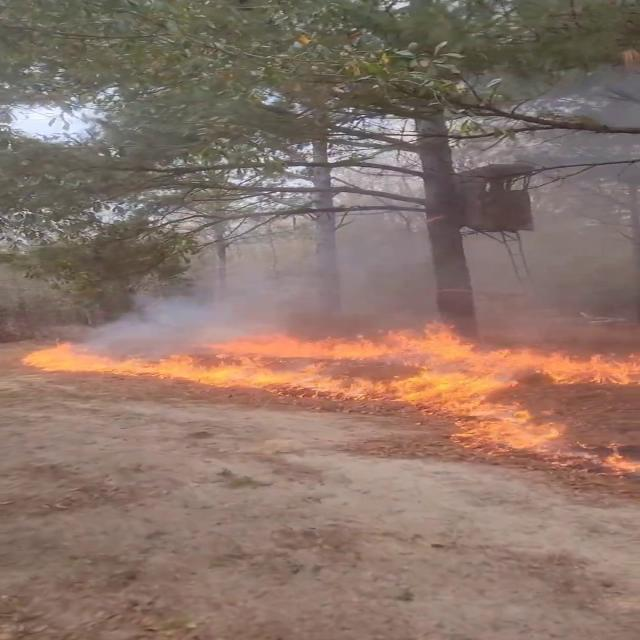Fire: (18, 316, 638, 429)
Smoke: (88, 174, 640, 346)
